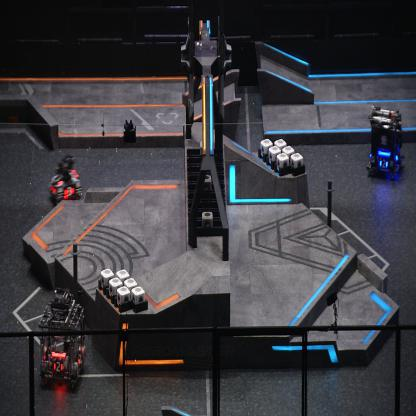car: (40, 284, 86, 388), (367, 102, 406, 180), (48, 153, 82, 203)
